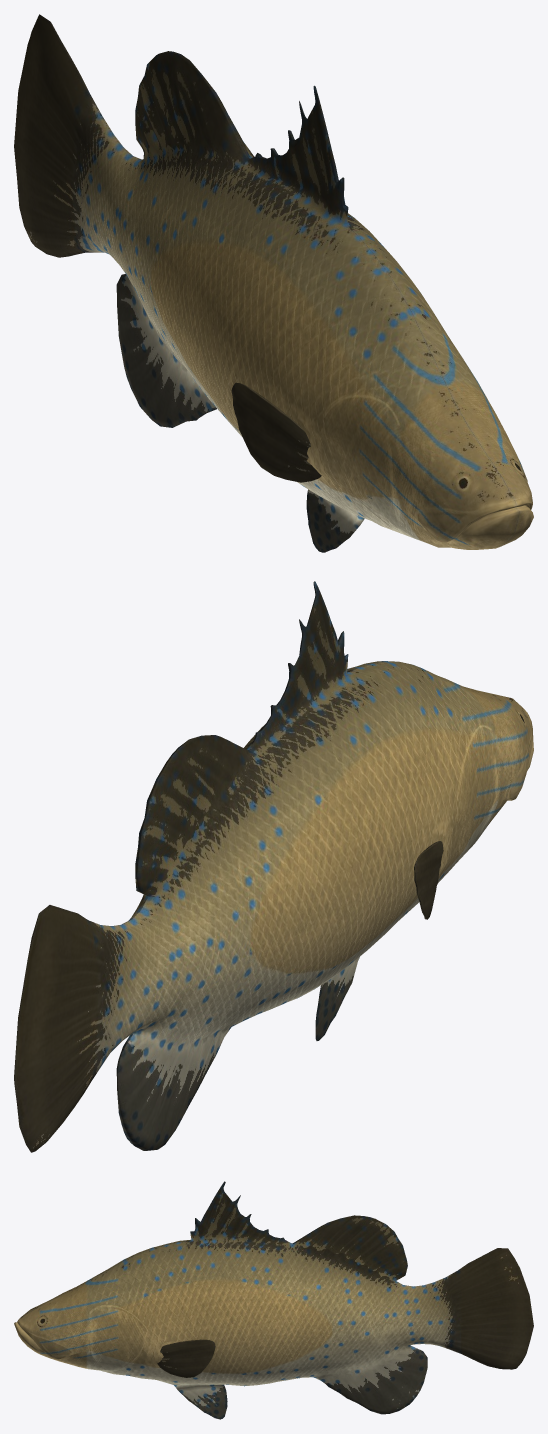
File: fish-shaari.glb
The picture shows the model from 3 angles, top to bottom: view 1: azimuth 30°, elevation 25°; view 2: azimuth 150°, elevation 25°; view 3: azimuth 270°, elevation 25°; orthographic projection. The views are drawn at different scales.
Parts seen in each view (by area): view 1: body; view 2: body; view 3: body.
Part boxes in pixels (bbox=[...]): body: bbox=[14, 14, 533, 552]; body: bbox=[14, 581, 533, 1152]; body: bbox=[14, 1181, 533, 1419].
Bounding box in the file's own units: 0.2111 × 0.5052 × 1.
1 material, 1 textured.
